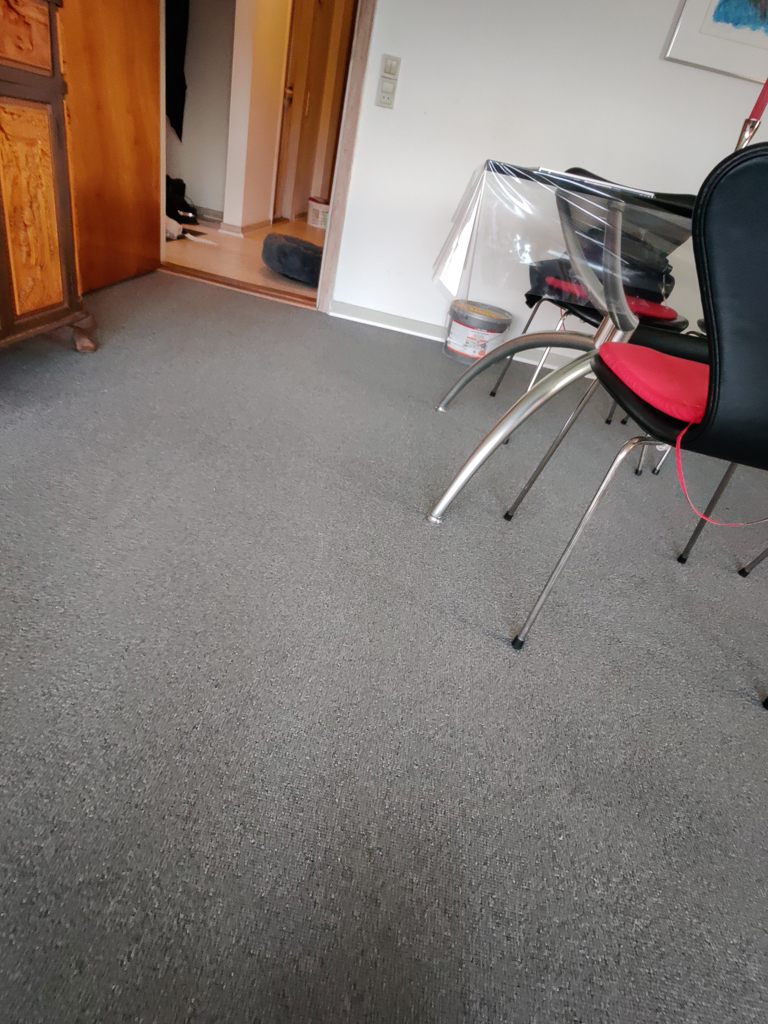Dog: (164, 206, 223, 250)
